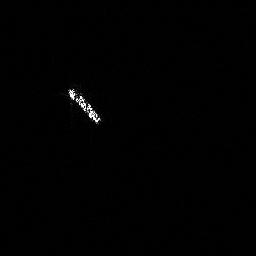ship: (64, 82, 104, 127)
